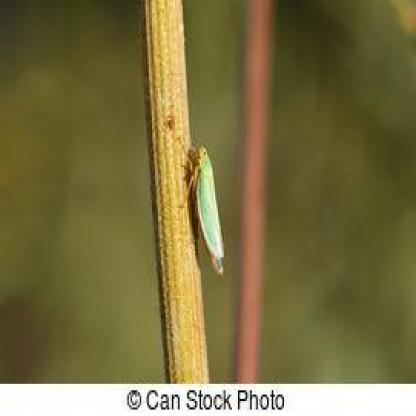Green-Leafhopper: (176, 138, 227, 284)
